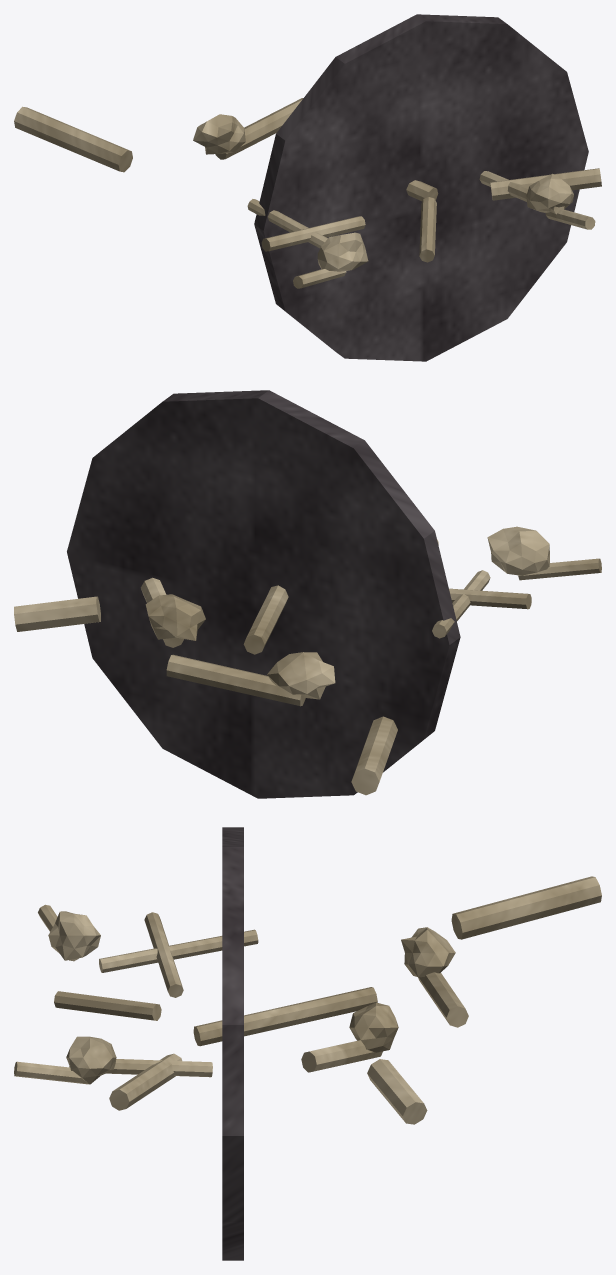
The model's file is 0250_bone_heap_25.glb.
The picture shows the model from 3 angles, top to bottom: view 1: azimuth 30°, elevation 25°; view 2: azimuth 150°, elevation 25°; view 3: azimuth 270°, elevation 25°; orthographic projection. The views are drawn at different scales.
Visible parts, largest first — view 1: ash, bone; view 2: ash, bone; view 3: bone, ash.
Boxes of the visible parts, <box> form: ash: <box>254,14,588,361</box>; bone: <box>14,98,601,288</box>; ash: <box>67,390,460,798</box>; bone: <box>14,526,601,795</box>; bone: <box>14,876,601,1124</box>; ash: <box>222,827,243,1260</box>.
Bounding box in the file's own units: 2.04 × 1.6 × 2.16.
Materials: 2 (2 with a texture image).
